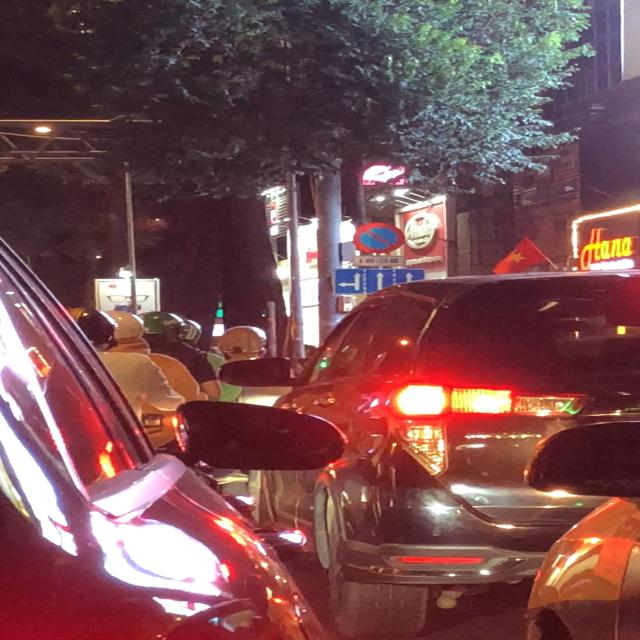Bien bao cam do xe: (350, 221, 408, 255)
